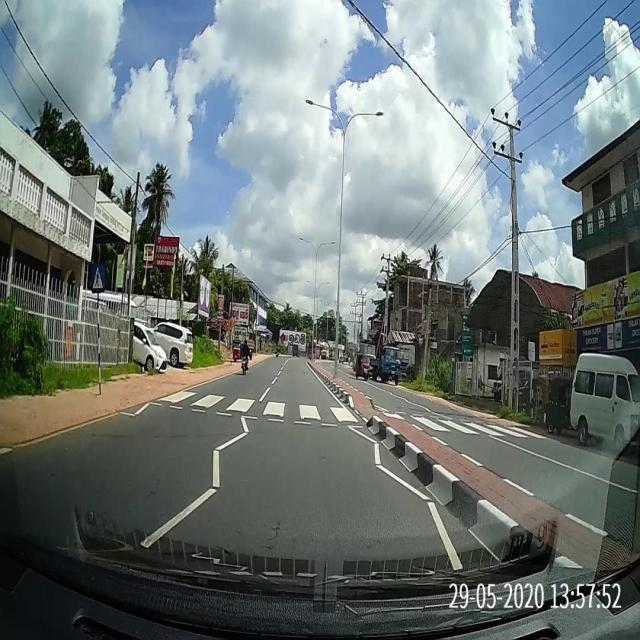Crosswalk: (139, 386, 553, 440)
